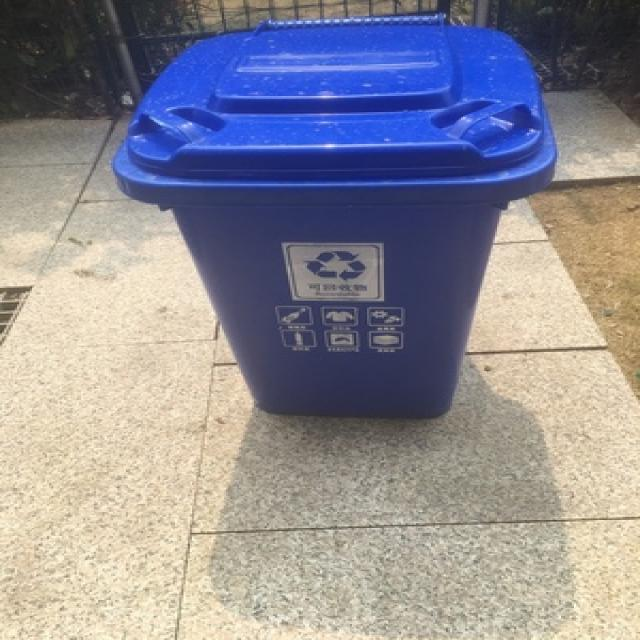ash bin: (108, 12, 554, 418)
